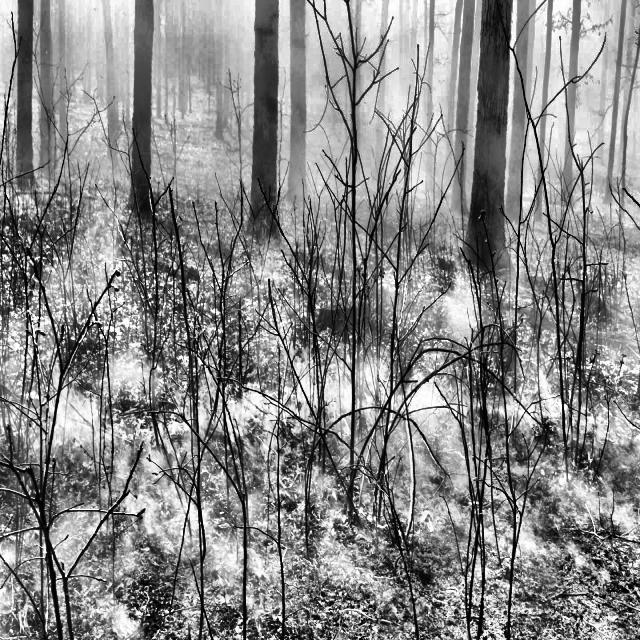fire: (20, 150, 601, 540)
